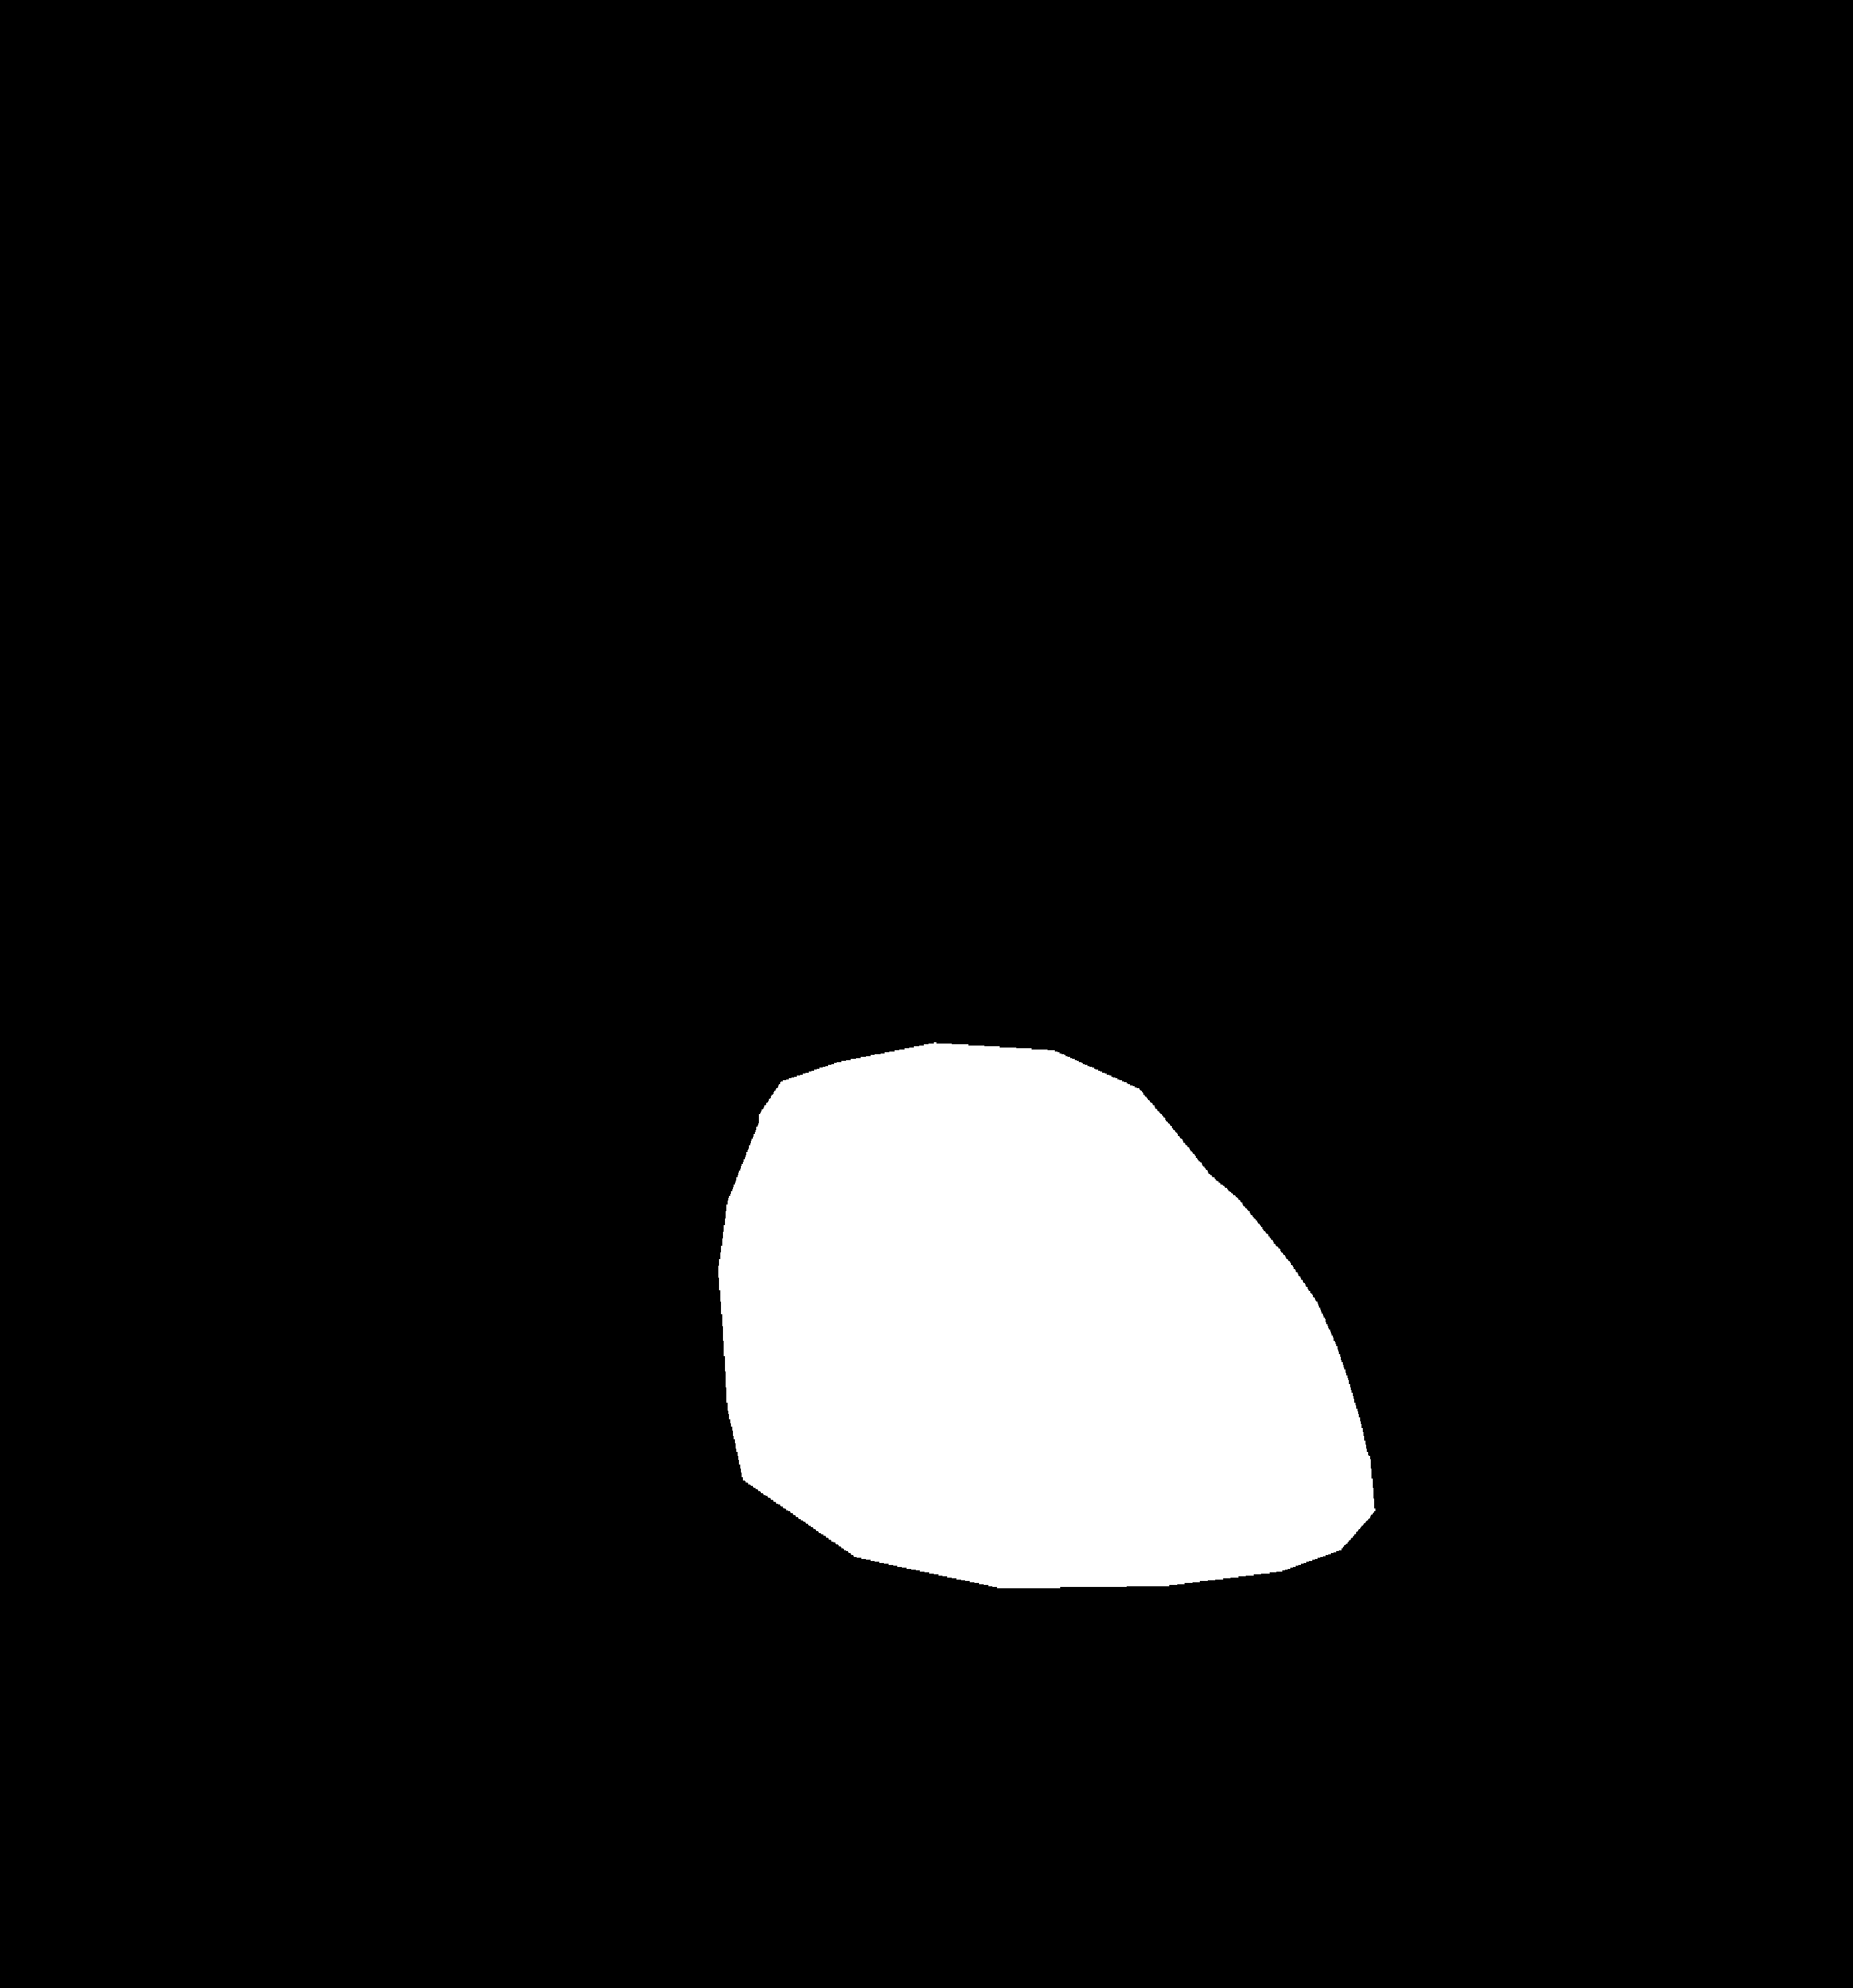heart: (718, 1114, 1367, 1622)
left_lung: (174, 444, 862, 1802)
right_lung: (1029, 423, 1708, 1734)
